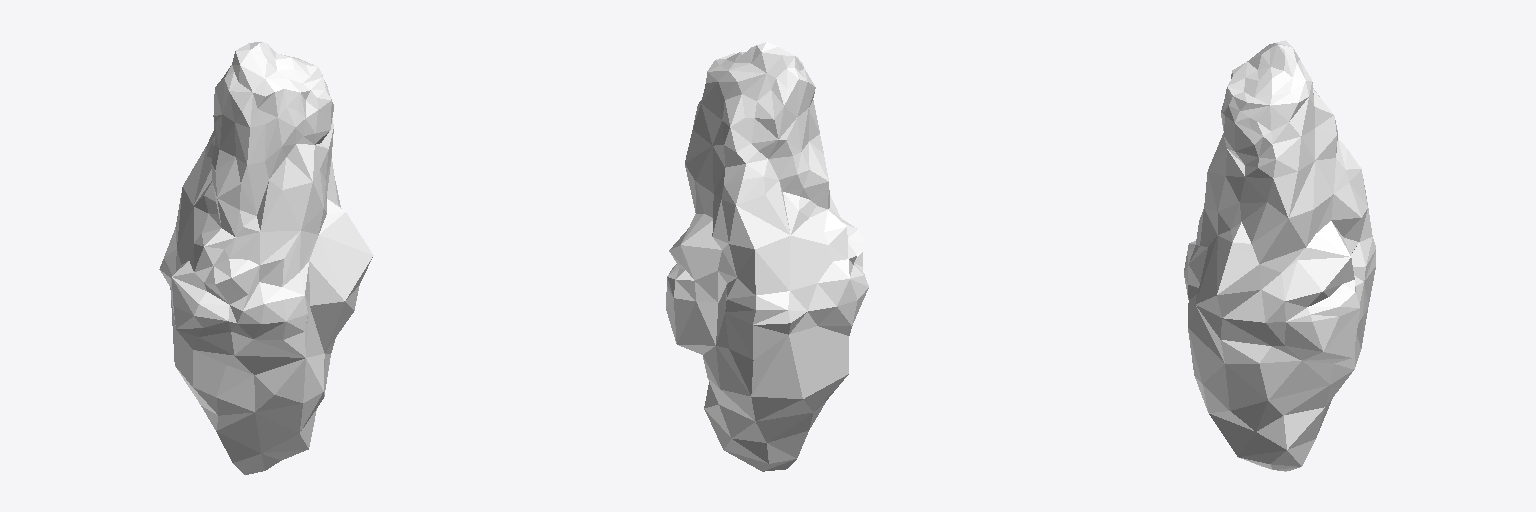
Rendered from Rock_03.obj.
The picture shows the model from 3 angles: view 1: azimuth 30°, elevation 25°; view 2: azimuth 150°, elevation 25°; view 3: azimuth 270°, elevation 25°; orthographic projection.
Visible parts, largest first — view 1: world_expansion06_doodads_suramar_7sr_cragrock_c01.m2_Geoset_000; view 2: world_expansion06_doodads_suramar_7sr_cragrock_c01.m2_Geoset_000; view 3: world_expansion06_doodads_suramar_7sr_cragrock_c01.m2_Geoset_000.
Part boxes in pixels (bbox=[...]): world_expansion06_doodads_suramar_7sr_cragrock_c01.m2_Geoset_000: bbox=[159, 42, 373, 474]; world_expansion06_doodads_suramar_7sr_cragrock_c01.m2_Geoset_000: bbox=[666, 42, 868, 471]; world_expansion06_doodads_suramar_7sr_cragrock_c01.m2_Geoset_000: bbox=[1184, 40, 1375, 471].
Size of the model in its own units: 16.1 by 38 by 15.61.